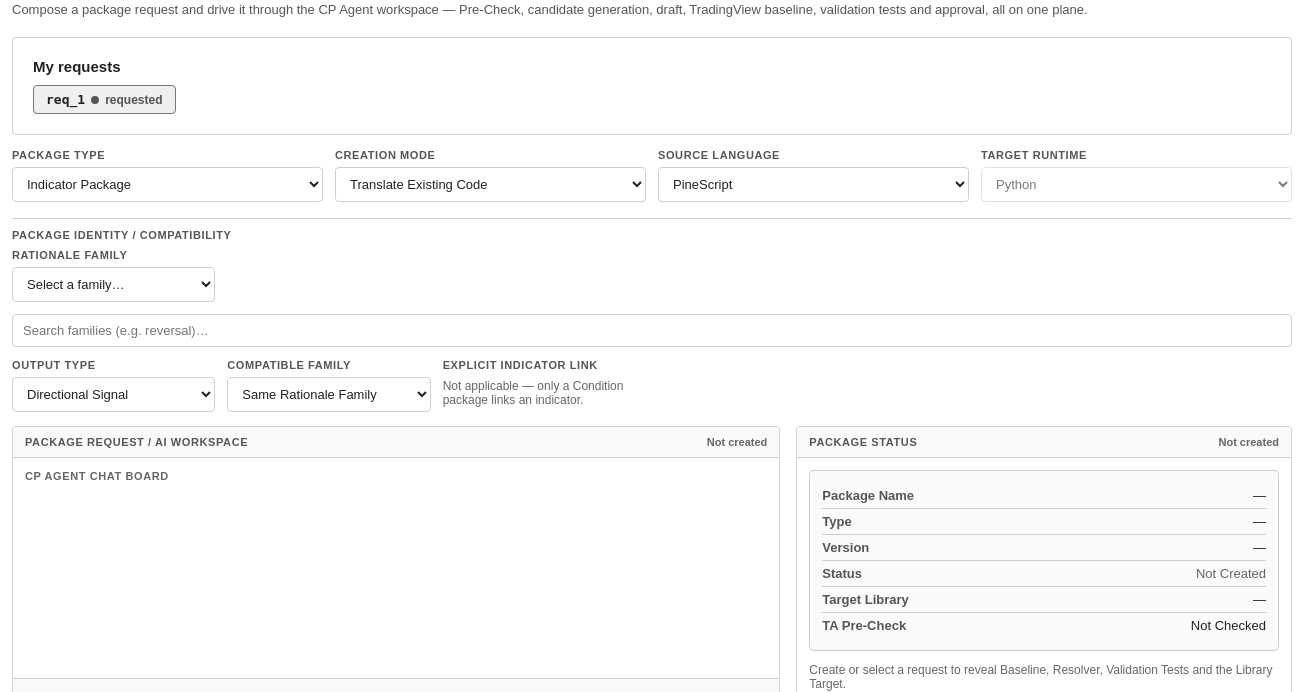
Create Package page › drafts against the candidate hash the durable worker pinned
Expected: the text "req_1" is shown, left=46, top=92, right=85, bottom=107
What coordinates should you click on to do the following:
click the button "req_1 requested"
I would click on:
 (104, 100)
Its box is left=33, top=85, right=176, bottom=114.
(page scrolled)
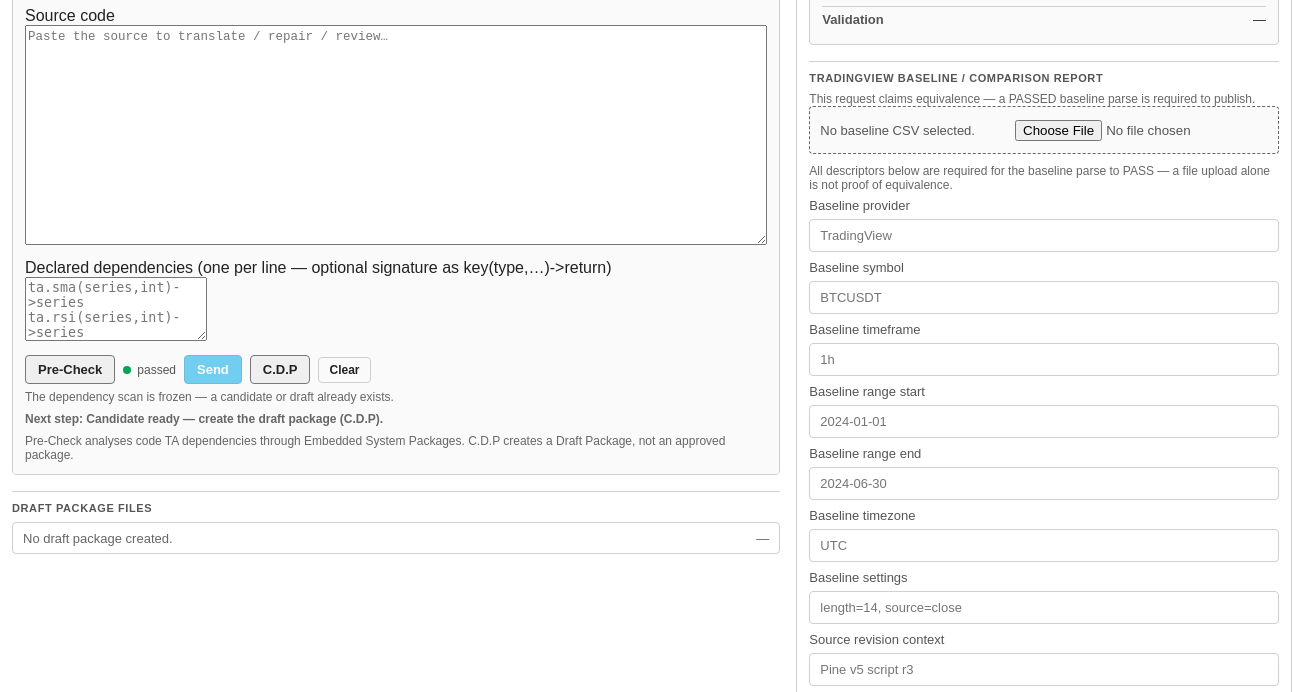
Expected: the button "C.D.P" is enabled
What coordinates should you click on to do the following:
click the button "C.D.P"
I would click on:
 (280, 370)
Its box is left=250, top=355, right=310, bottom=384.
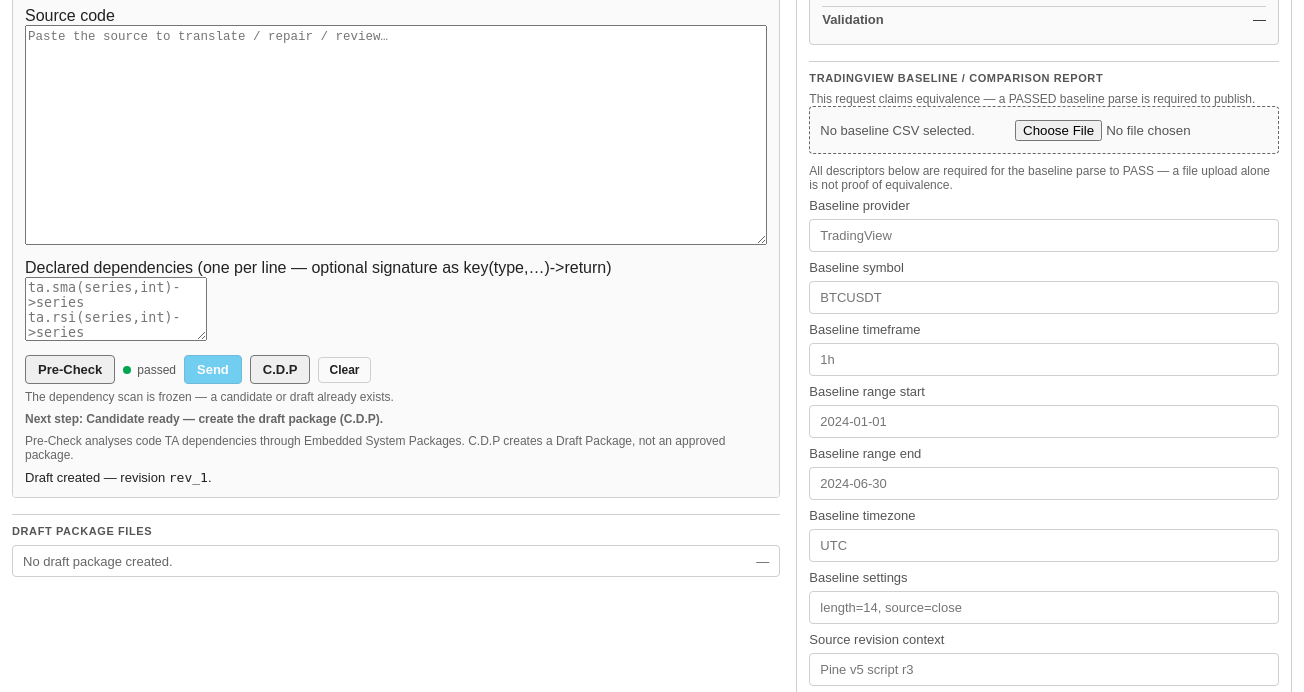
Expected: the text "Draft created — revision rev_1." is shown, left=25, top=470, right=212, bottom=485
